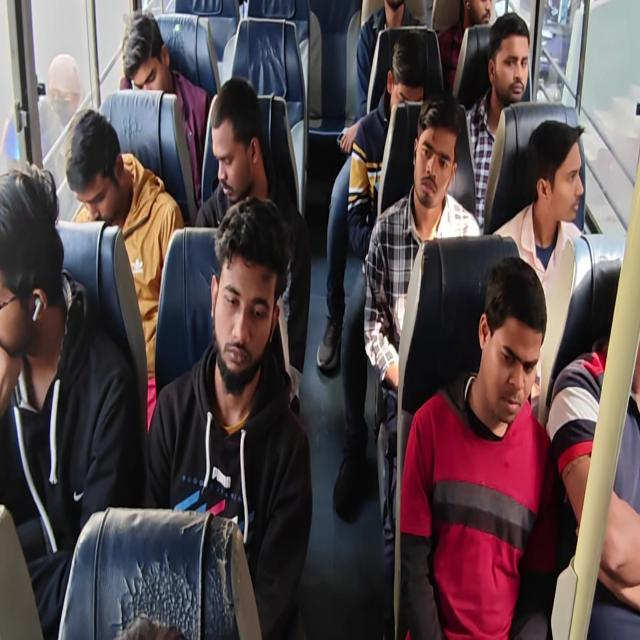person: (214, 221, 290, 387), (0, 174, 56, 356), (202, 88, 269, 214), (472, 282, 527, 422), (69, 115, 135, 225), (532, 127, 588, 226), (387, 46, 430, 124), (491, 20, 530, 101), (125, 20, 168, 93), (415, 106, 445, 204), (463, 0, 502, 33), (373, 0, 411, 18)
